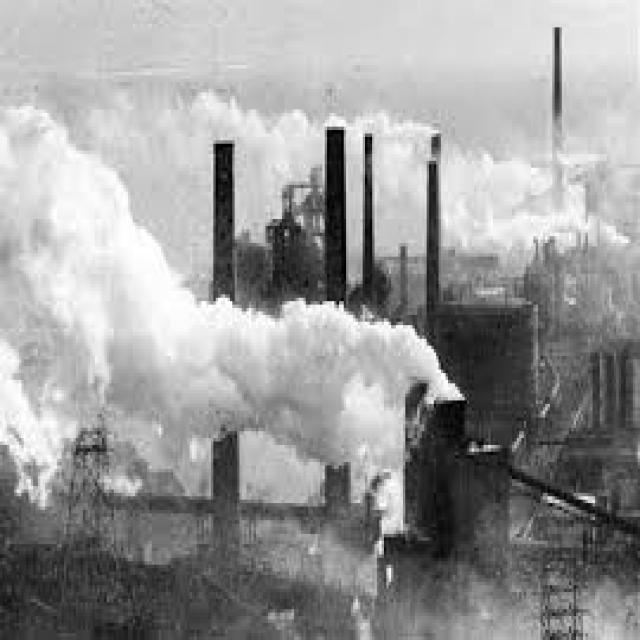smoke: (2, 212, 422, 455)
